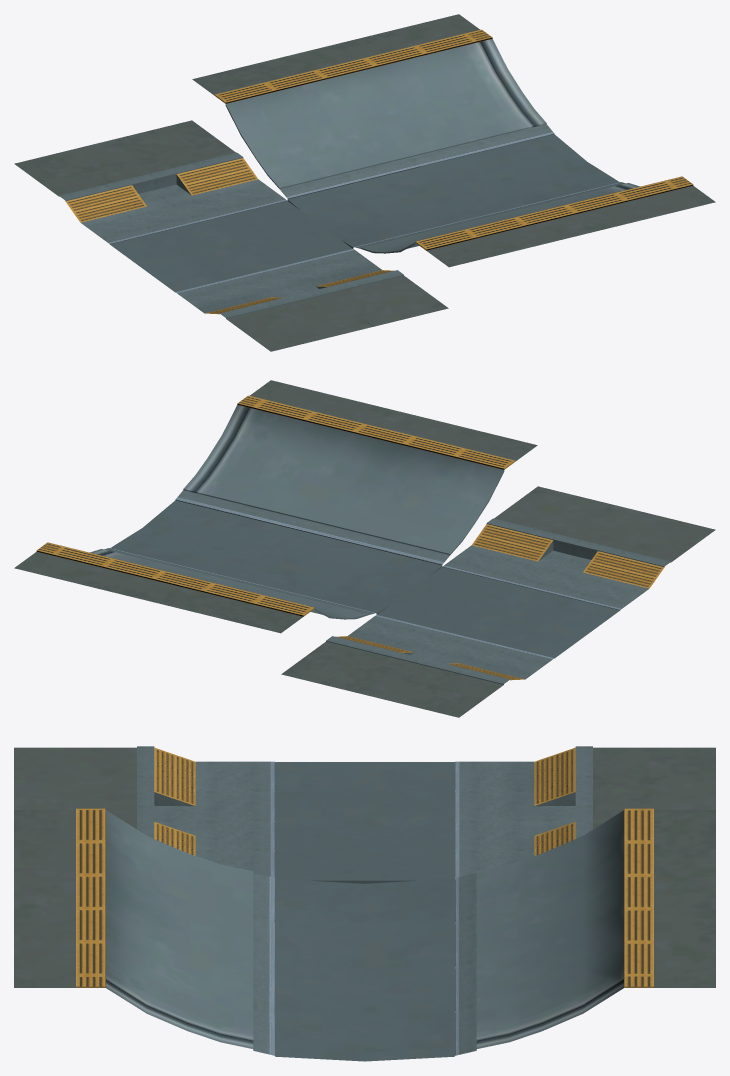
The picture shows the model from 3 angles, top to bottom: view 1: azimuth 30°, elevation 25°; view 2: azimuth 150°, elevation 25°; view 3: azimuth 270°, elevation 25°; orthographic projection. The views are drawn at different scales.
Visible parts, largest first — view 1: Joint_0_Object_5, Joint_0_Object_0, Joint_0_Object_13, Joint_0_Object_12, Joint_0_Object_17, Joint_0_Object_16, Joint_0_Object_7, Joint_0_Object_9, Joint_0_Object_8, Joint_0_Object_3, Joint_0_Object_11, Joint_0_Object_15 (+2 smaller); view 2: Joint_0_Object_6, Joint_0_Object_0, Joint_0_Object_13, Joint_0_Object_7, Joint_0_Object_16, Joint_0_Object_17, Joint_0_Object_12, Joint_0_Object_9, Joint_0_Object_3, Joint_0_Object_8, Joint_0_Object_11, Joint_0_Object_15 (+2 smaller); view 3: Joint_0_Object_5, Joint_0_Object_6, Joint_0_Object_0, Joint_0_Object_13, Joint_0_Object_12, Joint_0_Object_7, Joint_0_Object_3, Joint_0_Object_8, Joint_0_Object_9, Joint_0_Object_16, Joint_0_Object_17, Joint_0_Object_11 (+2 smaller).
Part boxes in pixels (left/top/right/bottom): Joint_0_Object_5: left=225, top=39, right=546, bottom=188; Joint_0_Object_0: left=110, top=201, right=352, bottom=292; Joint_0_Object_13: left=81, top=175, right=381, bottom=313; Joint_0_Object_12: left=288, top=134, right=586, bottom=226; Joint_0_Object_17: left=226, top=275, right=448, bottom=351; Joint_0_Object_16: left=14, top=120, right=235, bottom=196; Joint_0_Object_7: left=323, top=162, right=618, bottom=247; Joint_0_Object_9: left=215, top=29, right=693, bottom=250; Joint_0_Object_8: left=426, top=185, right=715, bottom=267; Joint_0_Object_3: left=192, top=14, right=479, bottom=95; Joint_0_Object_11: left=280, top=124, right=625, bottom=248; Joint_0_Object_15: left=65, top=158, right=393, bottom=314; Joint_0_Object_6: left=183, top=405, right=504, bottom=554; Joint_0_Object_0: left=377, top=567, right=619, bottom=658; Joint_0_Object_13: left=348, top=541, right=648, bottom=679; Joint_0_Object_7: left=143, top=500, right=441, bottom=592; Joint_0_Object_16: left=281, top=641, right=503, bottom=717; Joint_0_Object_17: left=494, top=486, right=715, bottom=562; Joint_0_Object_12: left=111, top=528, right=406, bottom=613; Joint_0_Object_9: left=37, top=395, right=515, bottom=615; Joint_0_Object_3: left=14, top=551, right=303, bottom=633; Joint_0_Object_8: left=250, top=380, right=537, bottom=461; Joint_0_Object_11: left=104, top=490, right=449, bottom=614; Joint_0_Object_15: left=336, top=524, right=664, bottom=680; Joint_0_Object_5: left=476, top=810, right=623, bottom=1048; Joint_0_Object_6: left=106, top=810, right=253, bottom=1048; Joint_0_Object_0: left=275, top=762, right=454, bottom=880; Joint_0_Object_13: left=154, top=761, right=575, bottom=877; Joint_0_Object_12: left=365, top=878, right=454, bottom=1061; Joint_0_Object_7: left=275, top=878, right=364, bottom=1061; Joint_0_Object_3: left=654, top=810, right=715, bottom=987; Joint_0_Object_8: left=14, top=810, right=75, bottom=987; Joint_0_Object_9: left=76, top=808, right=653, bottom=987; Joint_0_Object_16: left=593, top=747, right=715, bottom=829; Joint_0_Object_17: left=14, top=747, right=136, bottom=829; Joint_0_Object_11: left=253, top=873, right=476, bottom=1055.
Size of the model in its own units: 10000 by 1179 by 10000.
Materials: 10 (10 with a texture image).
